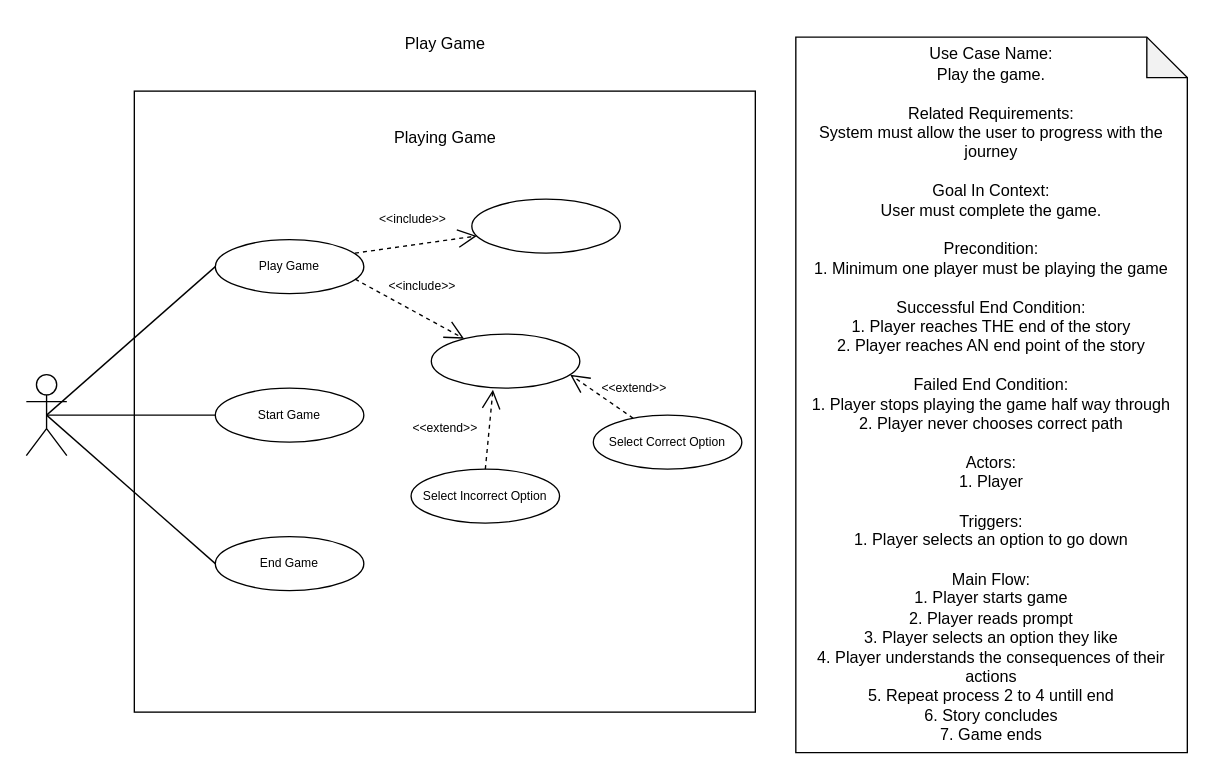
Image size: 1211x776. Some labels were removed from this diagram. Here are the shapes that lost their labels. From the top down, the centre of each, then its label:
At (x=545, y=225): "Complete Game".
At (x=505, y=360): "Select Options".
At (x=46, y=414): "Player".
